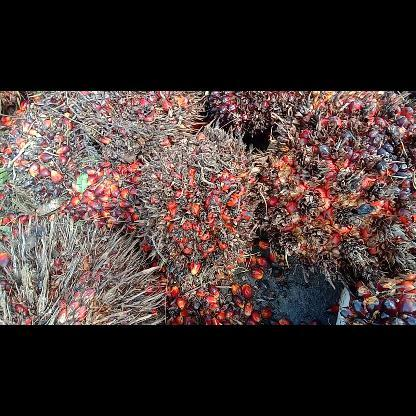Terlalu masak: (258, 91, 414, 291), (126, 125, 266, 306), (55, 91, 209, 167), (201, 90, 328, 136)
